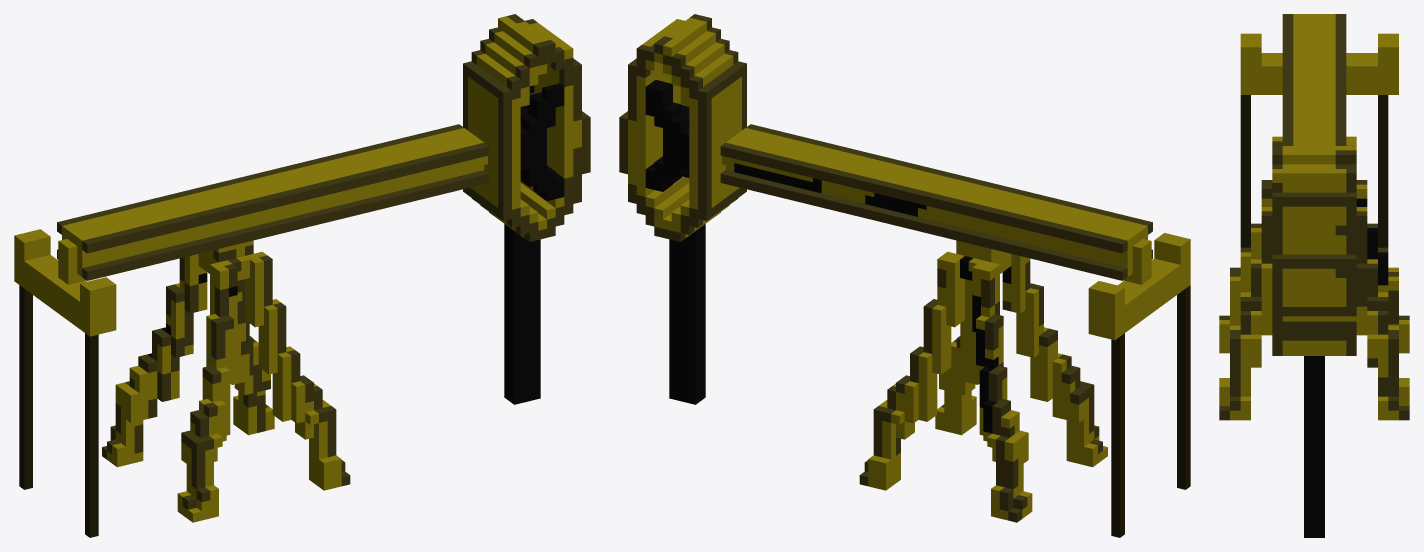
The model's file is OirRig1lvl.fbx.
The picture shows the model from 3 angles, left to right: view 1: azimuth 30°, elevation 25°; view 2: azimuth 150°, elevation 25°; view 3: azimuth 270°, elevation 25°; orthographic projection. The views are drawn at different scales.
Parts seen in each view (by area): view 1: Untitled.001, Untitled; view 2: Untitled.001, Untitled; view 3: Untitled.001, Untitled.
Boxes of the visible parts, x1=… form: Untitled.001: x1=14, y1=14, x2=590, y2=537; Untitled: x1=102, y1=240, x2=350, y2=522; Untitled.001: x1=619, y1=14, x2=1190, y2=537; Untitled: x1=859, y1=240, x2=1107, y2=522; Untitled.001: x1=1240, y1=14, x2=1398, y2=537; Untitled: x1=1219, y1=136, x2=1409, y2=420.
Bounding box in the file's own units: 590 × 400 × 180.
